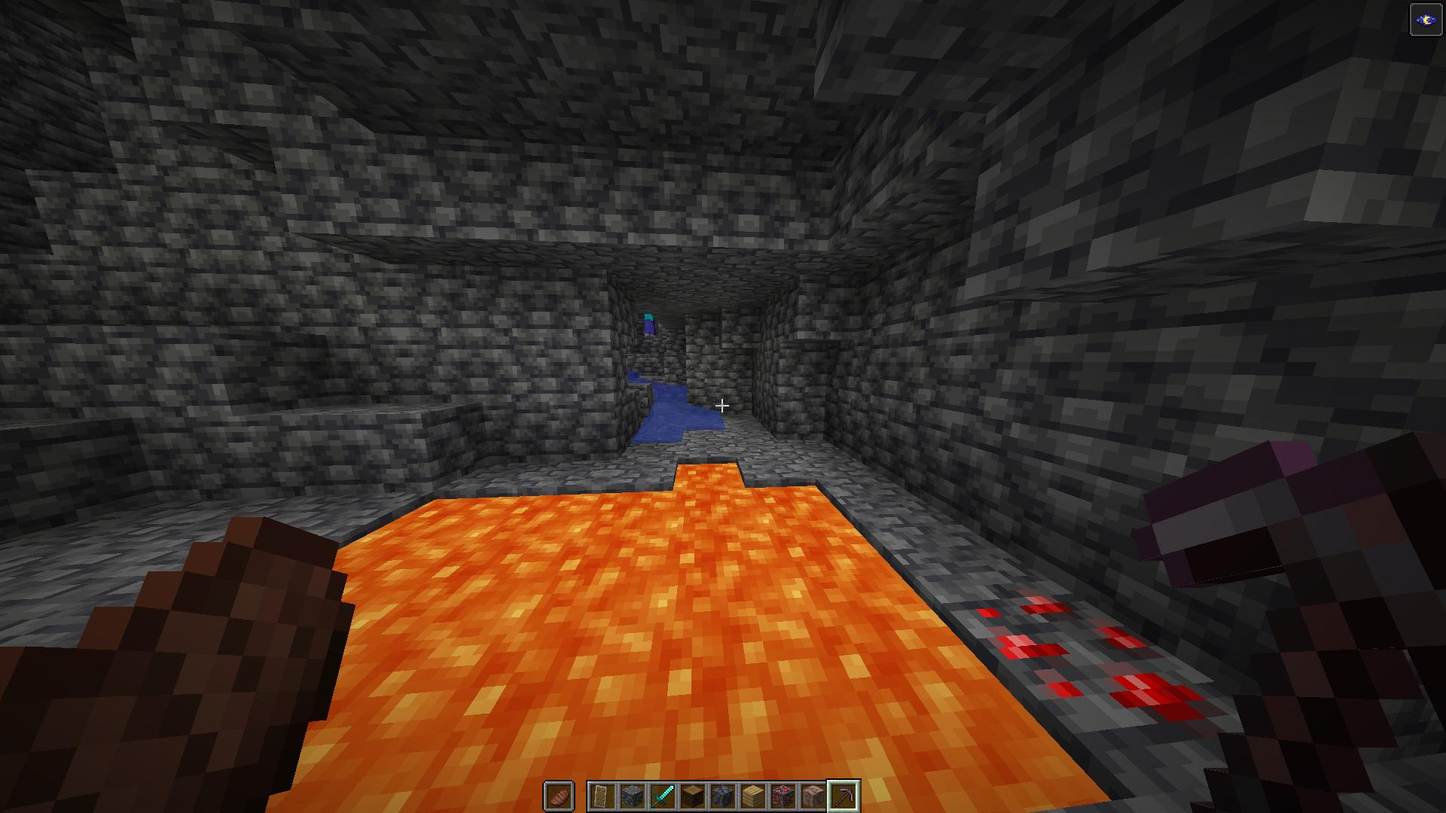redstone ore: (968, 581, 1237, 747)
